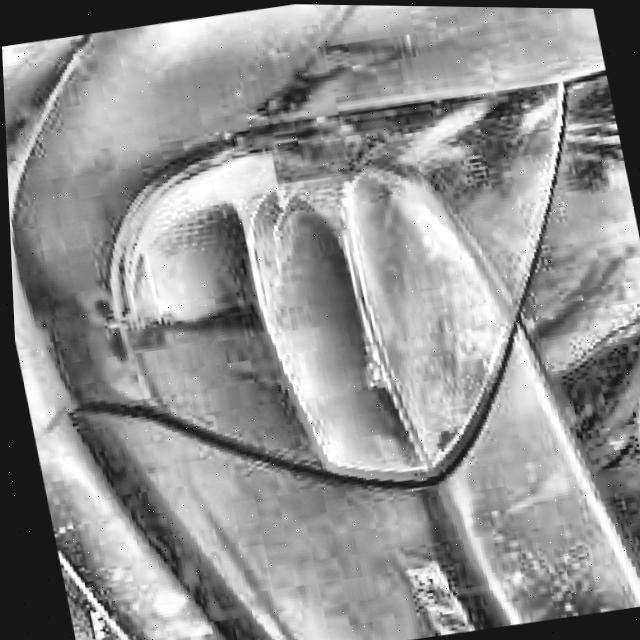tail_lamp: (103, 134, 350, 354)
